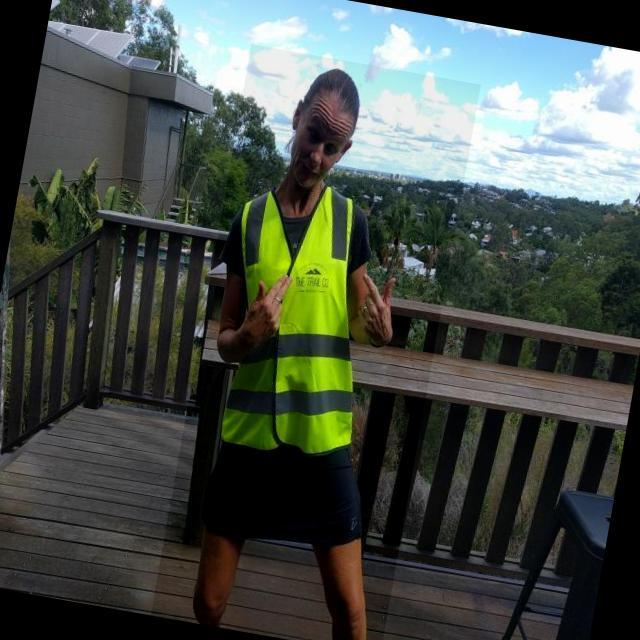Person: (169, 44, 431, 640)
Safety Vest: (214, 174, 382, 465)
bare-arms: (233, 272, 304, 344), (353, 263, 410, 344)
no-helmet: (282, 63, 368, 116)
